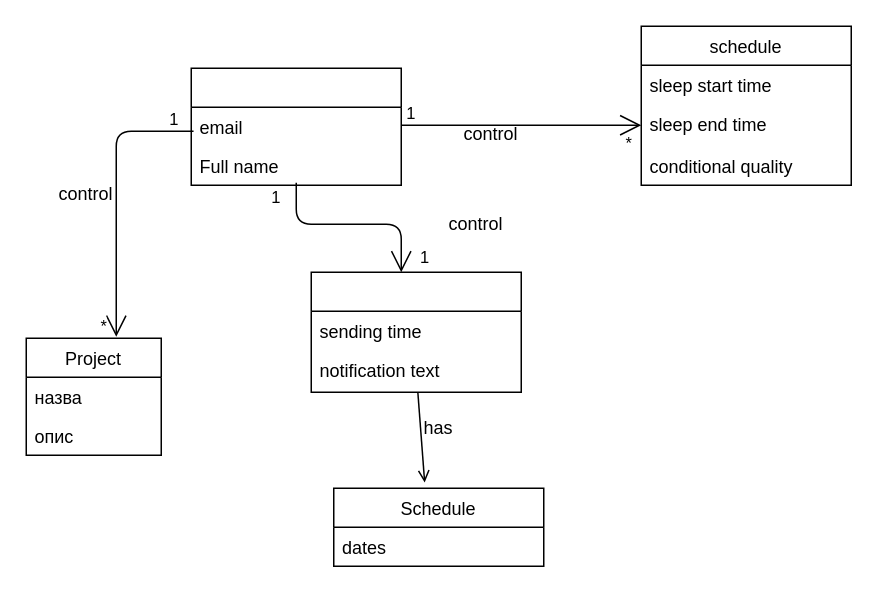
This 878x597 diagram has some shape labels left out. Each missing label, with the box of its shape:
Sleep notification: (310, 271, 521, 392)
User: (190, 67, 401, 185)
